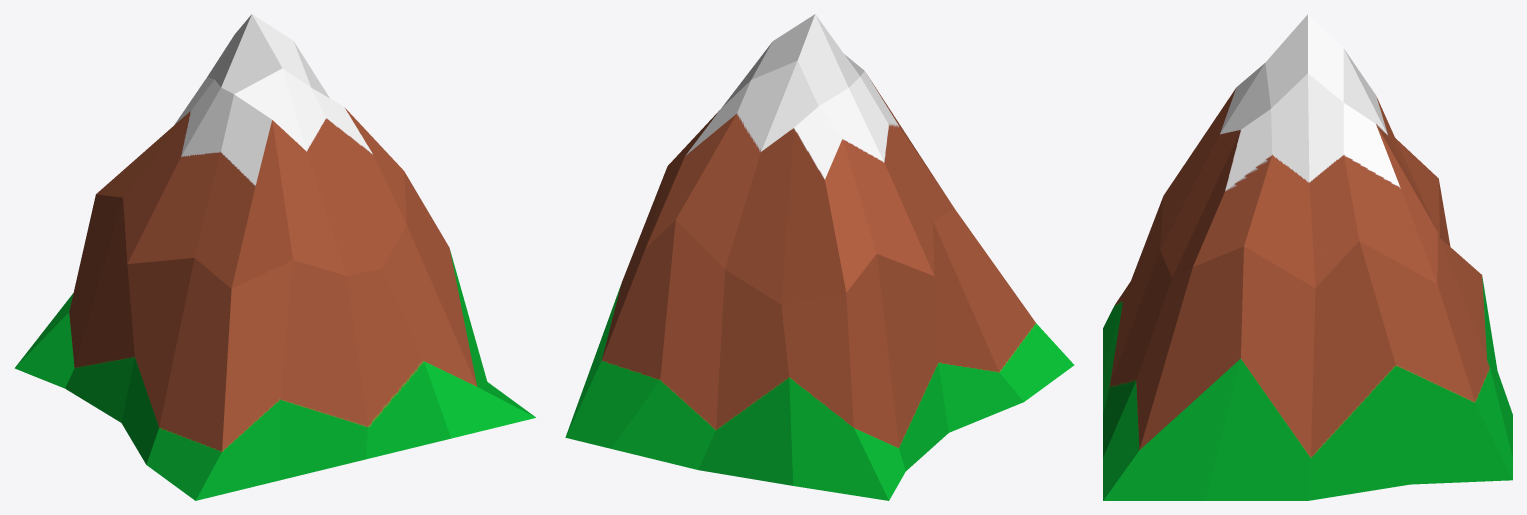
The model's file is mountain.glb.
3 renders of one model, left to right at view 1: azimuth 30°, elevation 25°; view 2: azimuth 150°, elevation 25°; view 3: azimuth 270°, elevation 25°, orthographic. The views are drawn at different scales.
Visible parts, largest first — view 1: Cube; view 2: Cube; view 3: Cube.
Boxes of the visible parts, bbox=[...] form: Cube: bbox=[14, 14, 535, 500]; Cube: bbox=[565, 14, 1074, 500]; Cube: bbox=[1103, 14, 1512, 500].
Bounding box in the file's own units: 2 × 2.11 × 2.
1 material, 1 textured.
